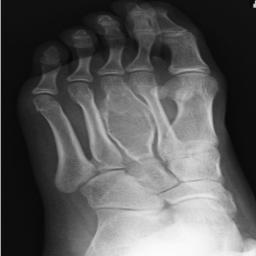cancer: (104, 82, 153, 165)
